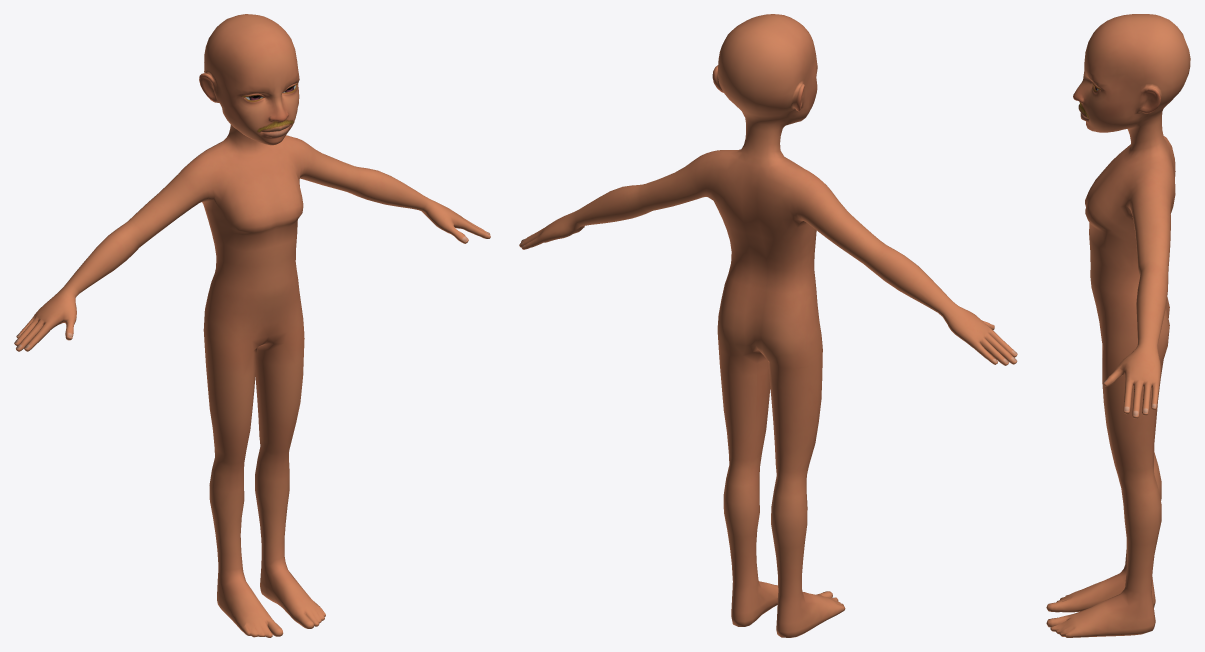
The model's file is frame_0100.glb.
3 renders of one model, left to right at view 1: azimuth 30°, elevation 25°; view 2: azimuth 150°, elevation 25°; view 3: azimuth 270°, elevation 25°, orthographic. The views are drawn at different scales.
Parts seen in each view (by area): view 1: frame_0100_head_geo; view 2: frame_0100_head_geo; view 3: frame_0100_head_geo.
Part boxes in pixels (<box>): frame_0100_head_geo: <box>14,14,490,637</box>; frame_0100_head_geo: <box>519,14,1017,637</box>; frame_0100_head_geo: <box>1046,14,1190,637</box>.
Bounding box in the file's own units: 1.28 × 1.5 × 0.3253.
3 materials, 3 textured.
